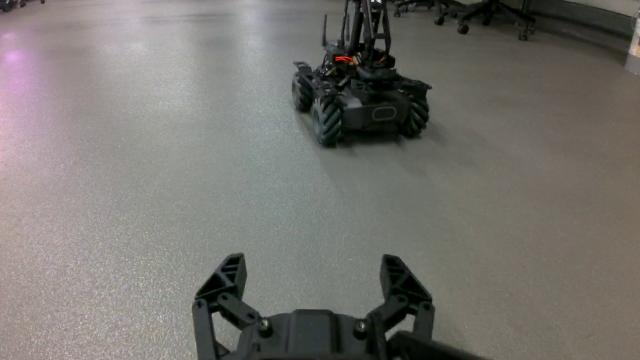robot: (291, 0, 434, 147)
